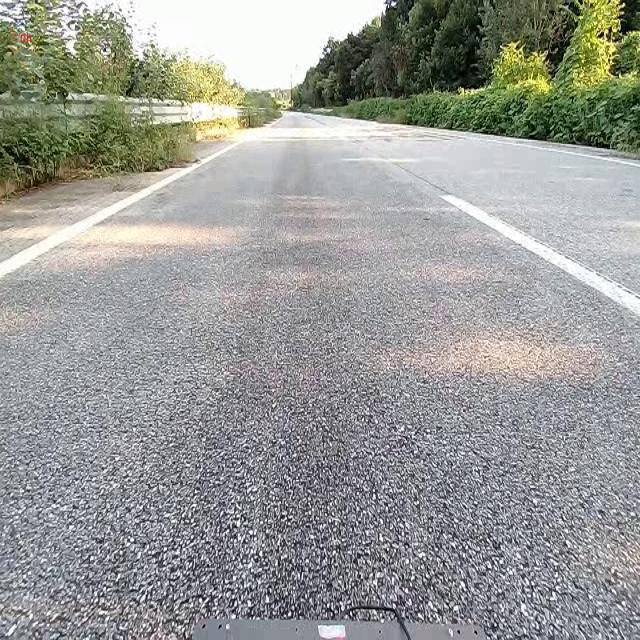Lane: (0, 138, 242, 285), (0, 141, 245, 279), (438, 192, 640, 318), (440, 195, 639, 317)
